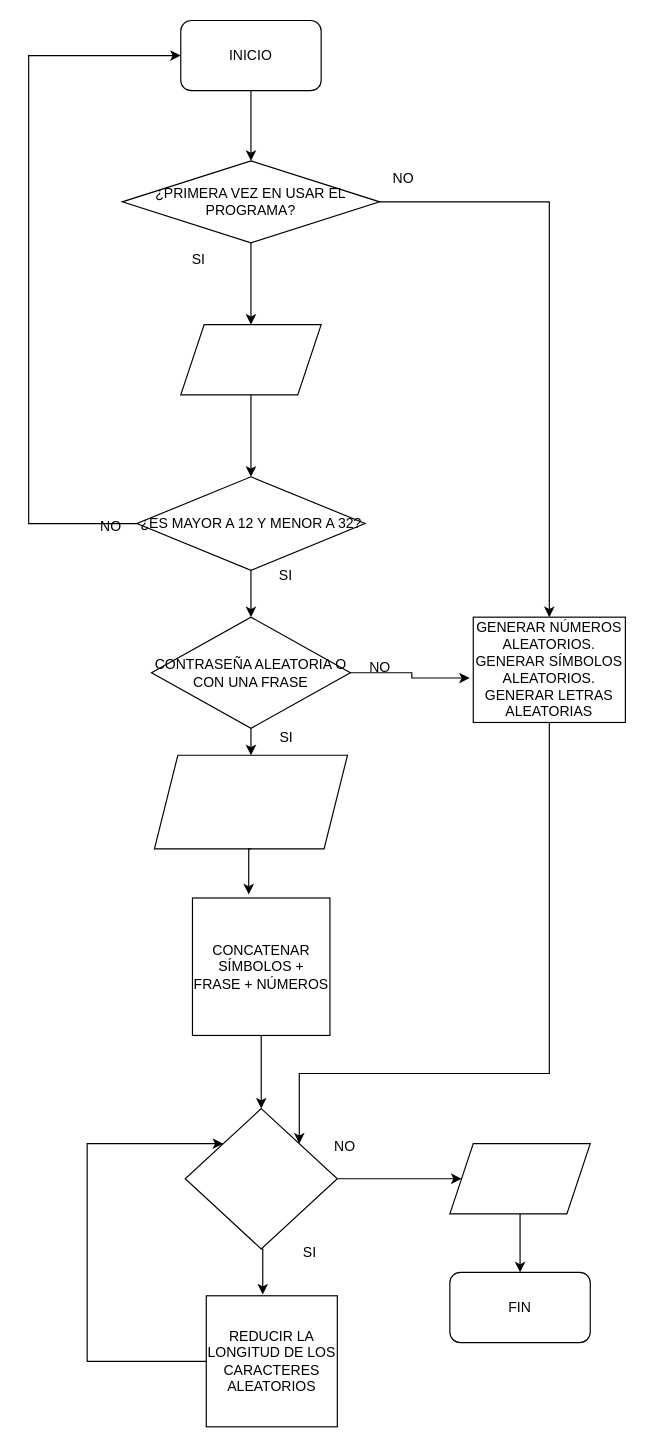
Image size: 646x1447. Some labels were removed from this diagram. The shapes that lost their labels are listed below. From the top down, each one's centre as x and y in pixels, then its label:
At [250,359]: "INGRESAR LA EXTENSIÓN DE CARACTERES".
At [250,801]: "INGRESA UNA FRASE QUE CONTENGA MAYÚSCULAS Y NIMÚSCULAS".
At [260,1178]: "¿ES MAYOR A 32?".
At [519,1178]: "MOSTRAR CONTRASEÑA SEGURA".
